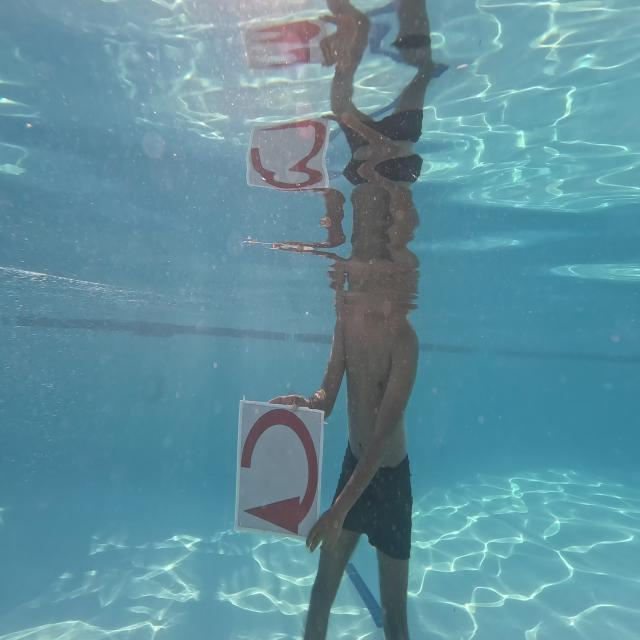red_side: (225, 386, 328, 543)
